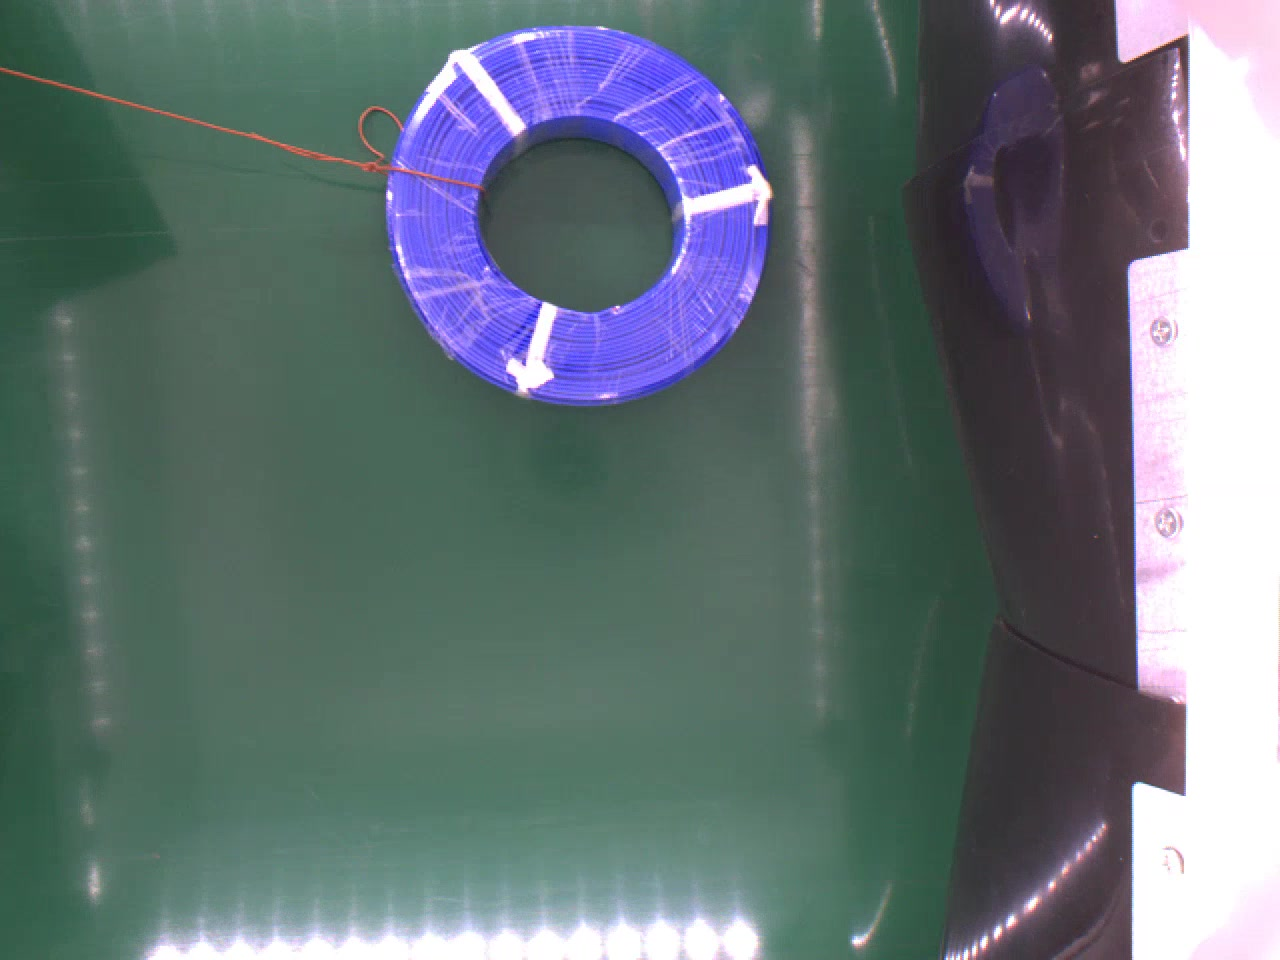blue: (387, 26, 774, 404)
